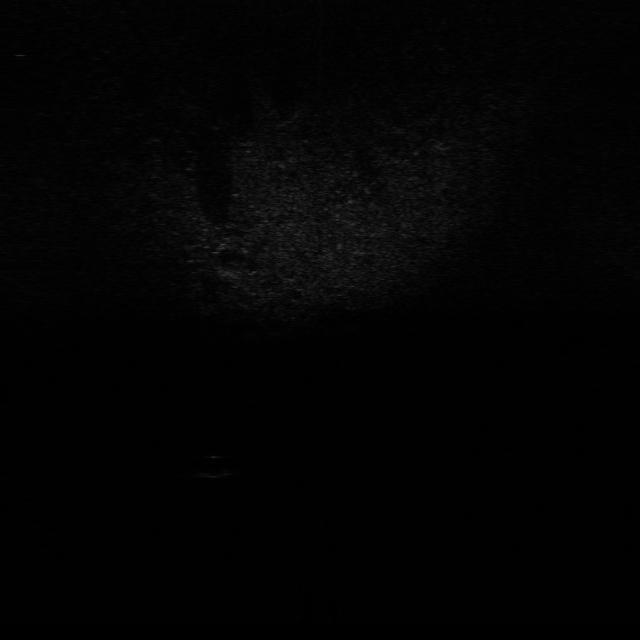ball: (192, 448, 236, 481)
